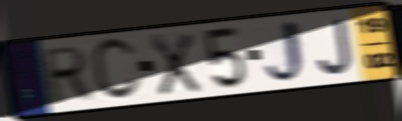5: (202, 25, 248, 91)
C: (89, 36, 145, 104)
J: (262, 18, 311, 86), (315, 16, 355, 78)
R: (41, 43, 94, 107)
X: (147, 31, 202, 98)
